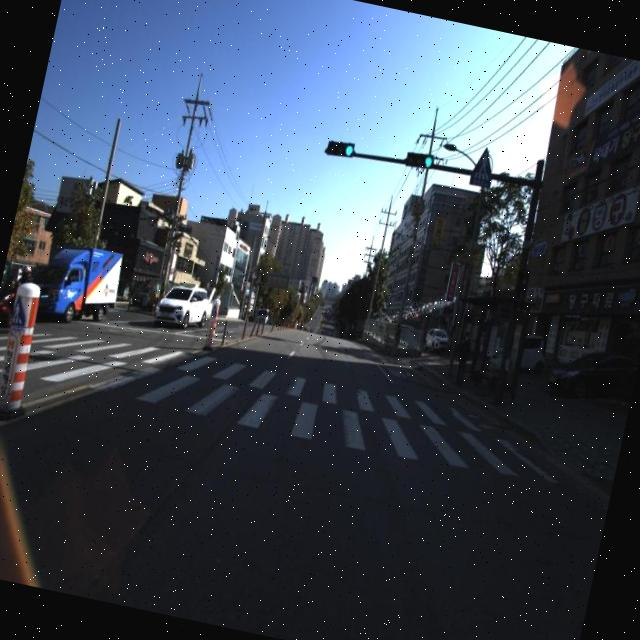crosswalk: (0, 329, 570, 487)
